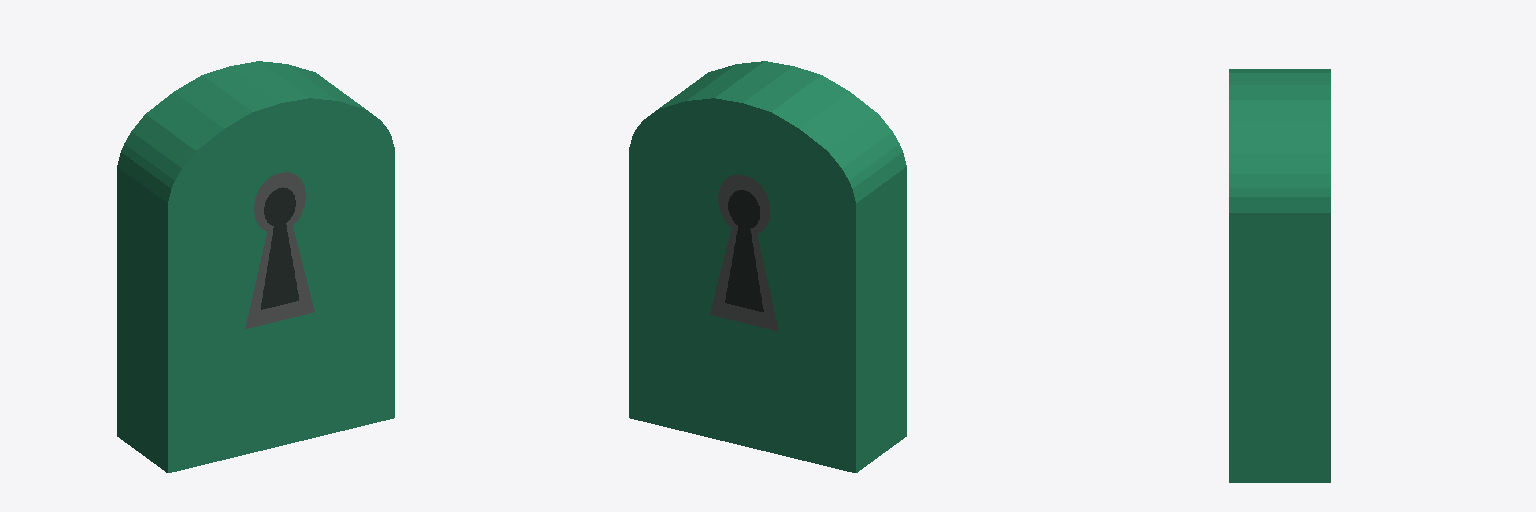
The picture shows the model from 3 angles: view 1: azimuth 30°, elevation 25°; view 2: azimuth 150°, elevation 25°; view 3: azimuth 270°, elevation 25°; orthographic projection.
Parts seen in each view (by area): view 1: Cube; view 2: Cube; view 3: Cube.
Part boxes in pixels (x1,y1,x2,y2): Cube: (117,61,394,472); Cube: (629,61,906,472); Cube: (1229,69,1330,482).
Bounding box in the file's own units: 2 × 2.89 × 0.7747.
Materials: 1 (1 with a texture image).